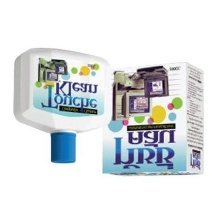book: (95, 60, 206, 178)
cleaning_solution: (7, 44, 115, 167)
